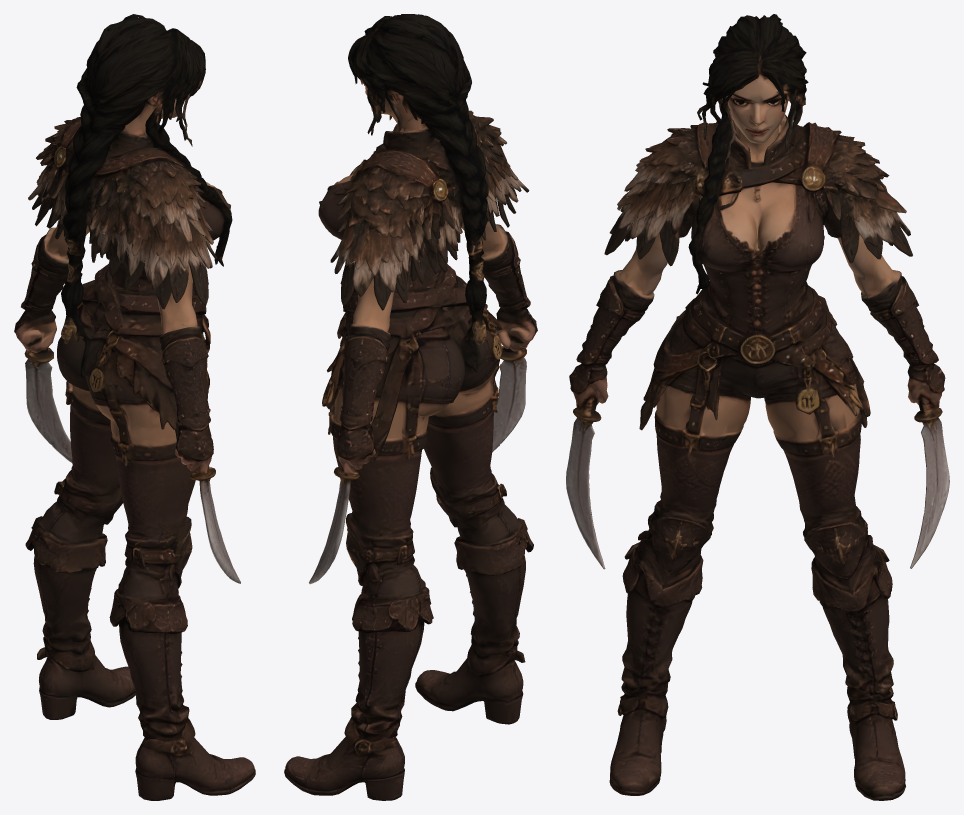
The model's file is kestrel_T1-tripo.glb.
3 renders of one model, left to right at view 1: azimuth 30°, elevation 25°; view 2: azimuth 150°, elevation 25°; view 3: azimuth 270°, elevation 25°, orthographic. The views are drawn at different scales.
Parts seen in each view (by area): view 1: tripo_node_6606159b-5344-40cd-bf37-06e74b88261e; view 2: tripo_node_6606159b-5344-40cd-bf37-06e74b88261e; view 3: tripo_node_6606159b-5344-40cd-bf37-06e74b88261e.
Boxes of the visible parts, x1,y1,x2,y2 form: tripo_node_6606159b-5344-40cd-bf37-06e74b88261e: [14, 14, 255, 800]; tripo_node_6606159b-5344-40cd-bf37-06e74b88261e: [284, 14, 537, 800]; tripo_node_6606159b-5344-40cd-bf37-06e74b88261e: [566, 14, 949, 800].
Bounding box in the file's own units: 0.2123 × 1 × 0.4596.
1 material, 1 textured.
